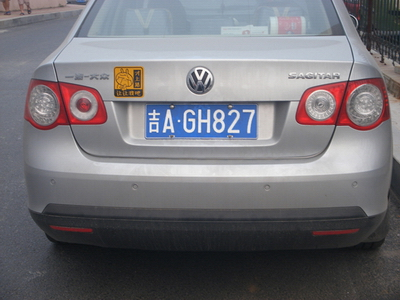plate_number: (145, 102, 260, 139)
